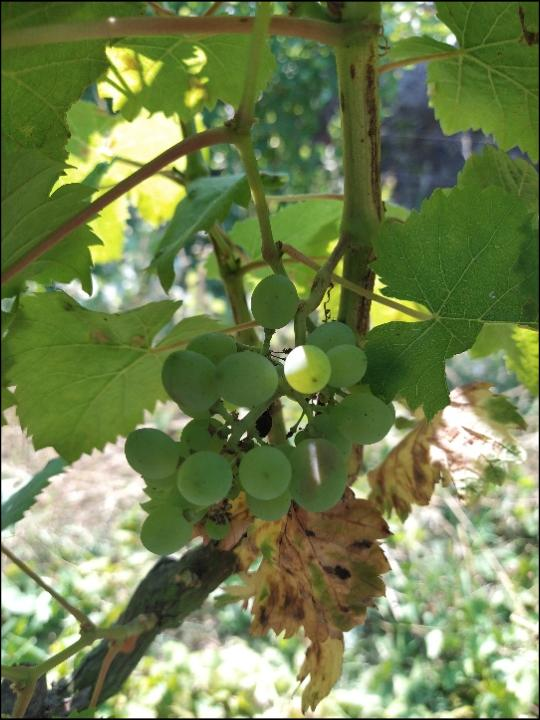grape: (121, 271, 396, 558)
